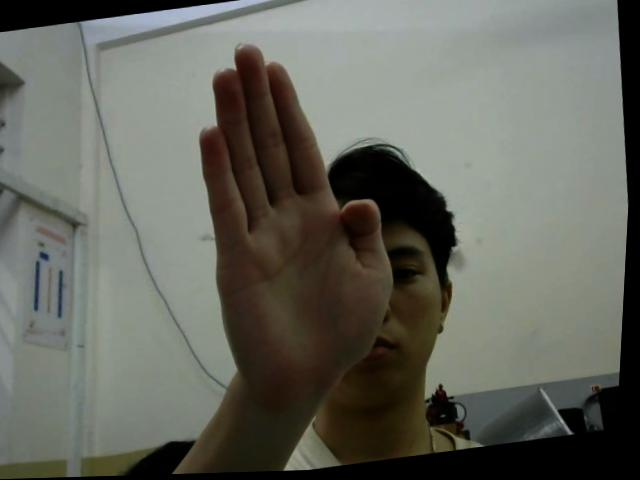B: (180, 25, 417, 403)
